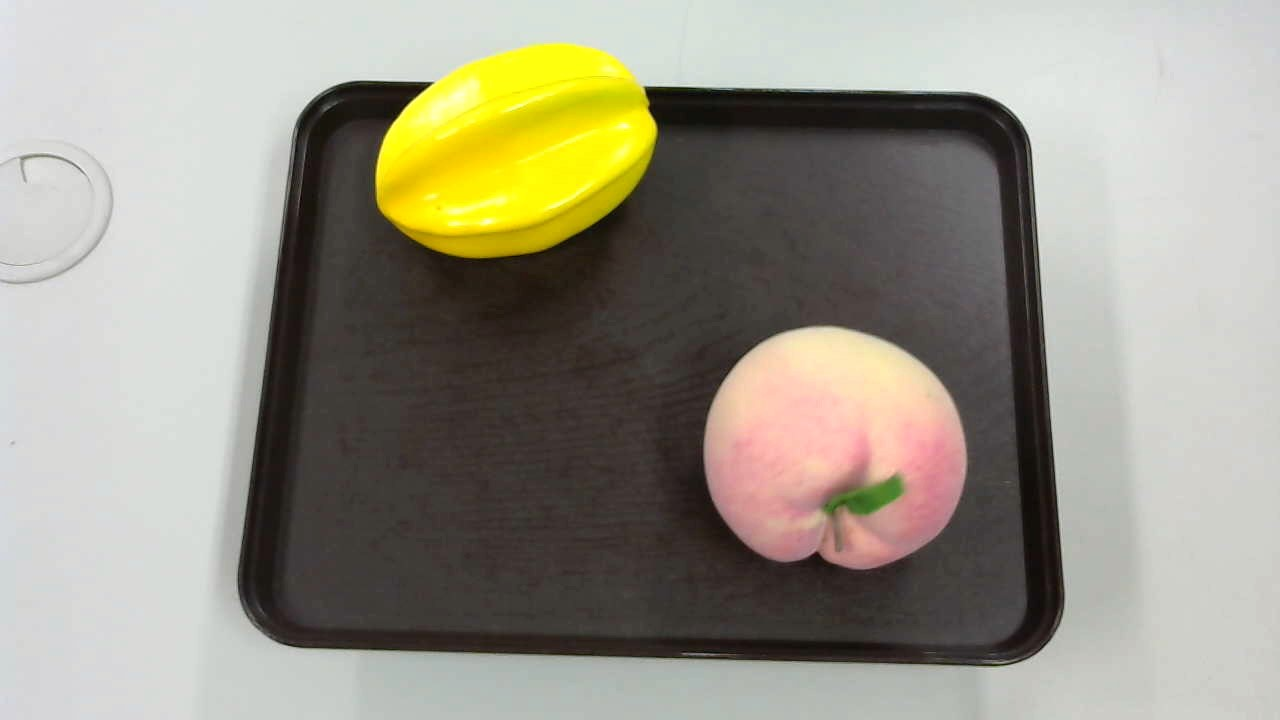peach: (700, 325, 965, 577)
star fruit: (377, 44, 659, 258)
